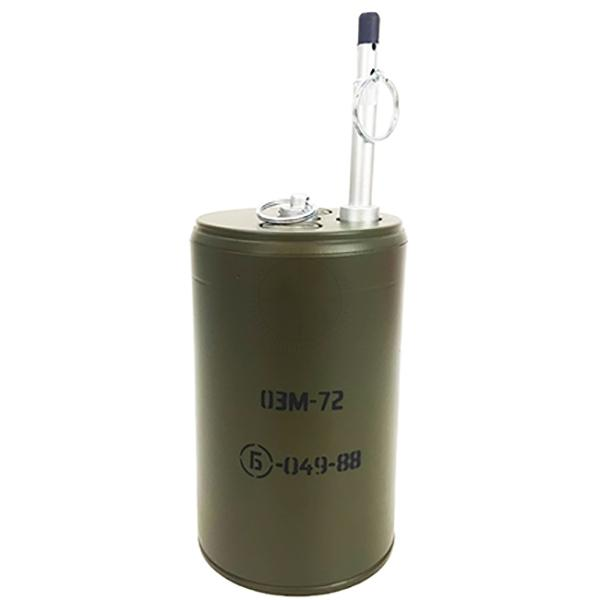OZM 72: (189, 13, 403, 597)
